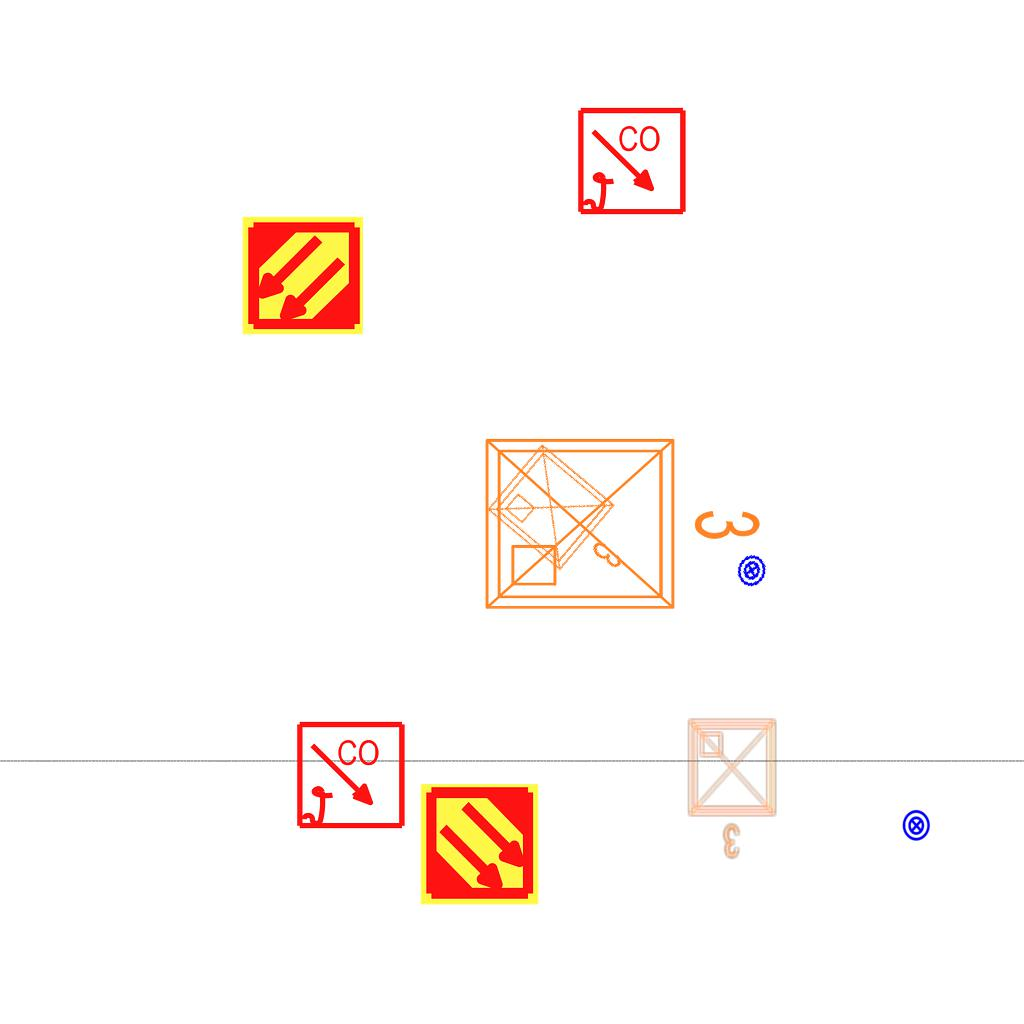ASR_Ansaugrauchmelder: (417, 782, 542, 907), (240, 213, 365, 338)
Einbaudownlights_LED_Konferenzraeume: (471, 416, 771, 624), (477, 430, 659, 608), (682, 713, 786, 863)
ROA_Rauchmelder_optisch_mit_Signalgeber_(Sockelsirene): (295, 720, 408, 833), (576, 106, 689, 219)
Taster_beleuchtet: (731, 550, 772, 591), (900, 809, 933, 842)
